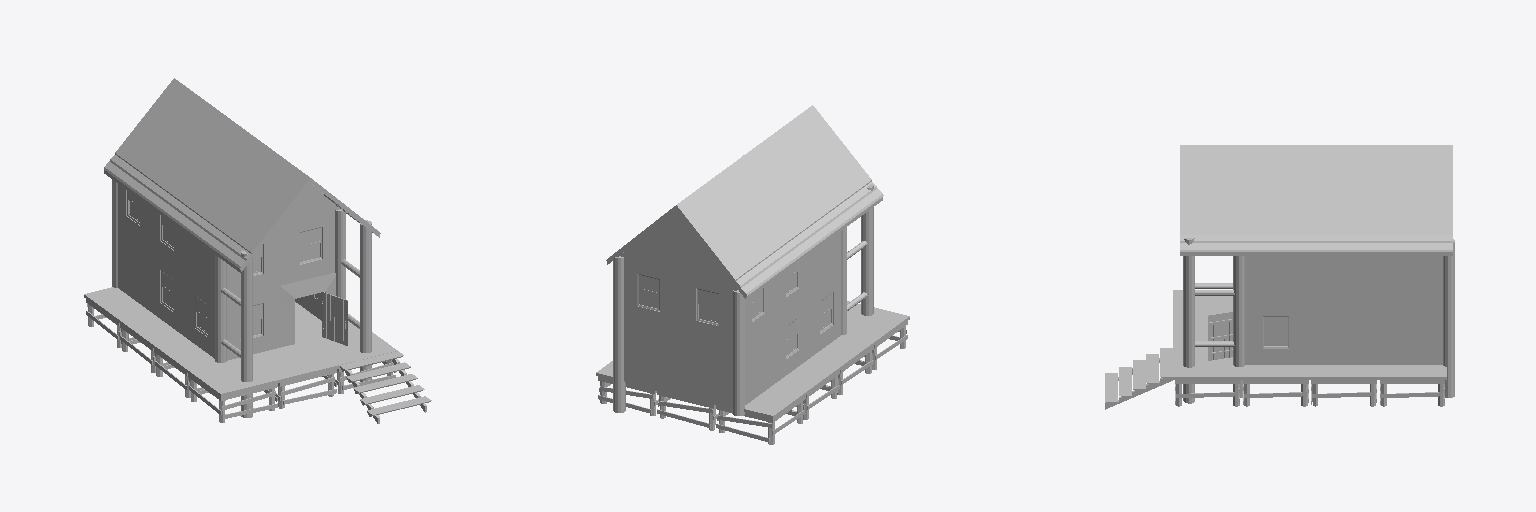
File: homework.obj
The picture shows the model from 3 angles: view 1: azimuth 30°, elevation 25°; view 2: azimuth 150°, elevation 25°; view 3: azimuth 270°, elevation 25°; orthographic projection.
Parts seen in each view (by area): view 1: House, Roof; view 2: House, Roof; view 3: House, Roof.
Part boxes in pixels (left/top/right/bottom): House: left=84, top=180, right=431, bottom=423; Roof: left=104, top=78, right=380, bottom=272; House: left=596, top=155, right=909, bottom=444; Roof: left=606, top=105, right=883, bottom=299; House: left=1105, top=238, right=1454, bottom=409; Roof: left=1180, top=145, right=1452, bottom=255.
Bounding box in the file's own units: 354 × 433 × 605.